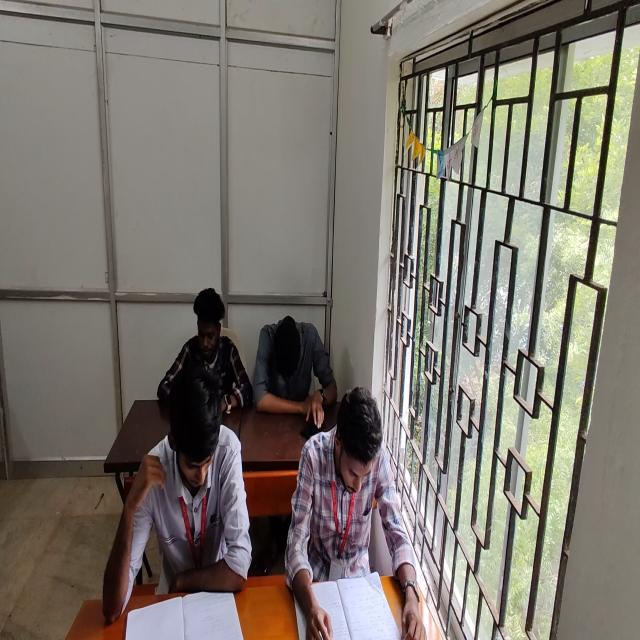reading: (104, 365, 253, 622), (304, 385, 425, 640)
using_mobile: (157, 285, 253, 412), (253, 314, 335, 424)
